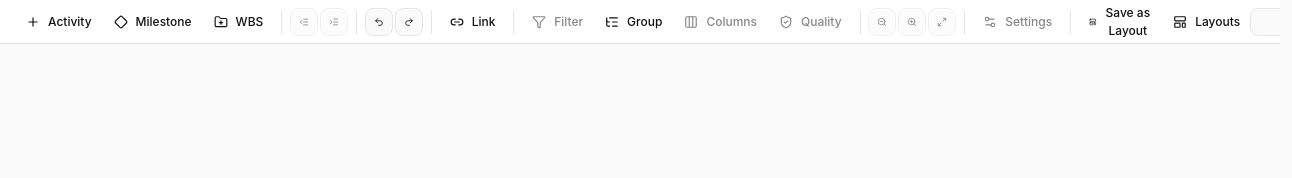
Test case: Toolbar › opens dropdown menu on click with all options
Click the button with test id "group-dropdown-trigger" at (634,22), box [595,8,672,36]
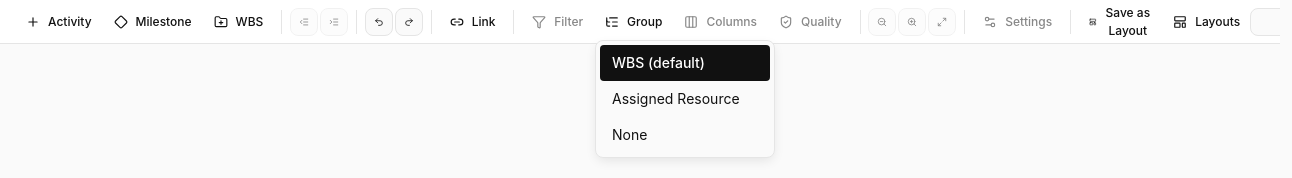
Now the text "WBS (default)" is shown, box [612,52,705,72]
Now the text "Assigned Resource" is shown, box [612,88,740,108]
Now the text "None" is shown, box [612,124,648,144]
